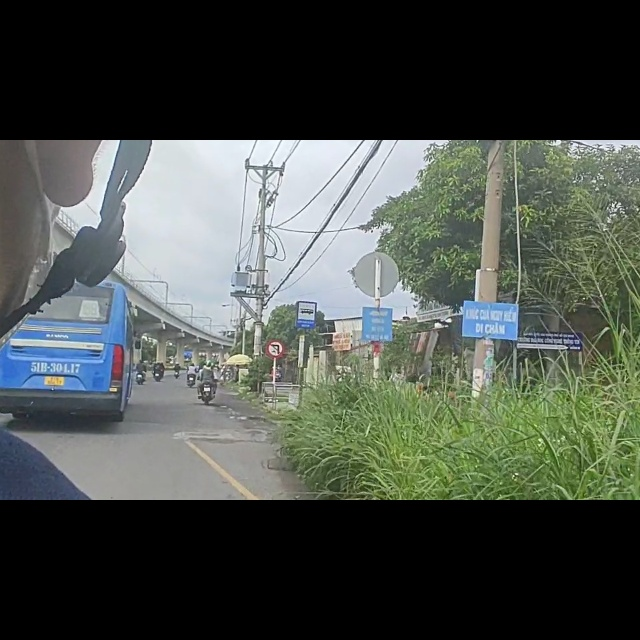bien_cam: (295, 283, 319, 335), (265, 354, 285, 386)
